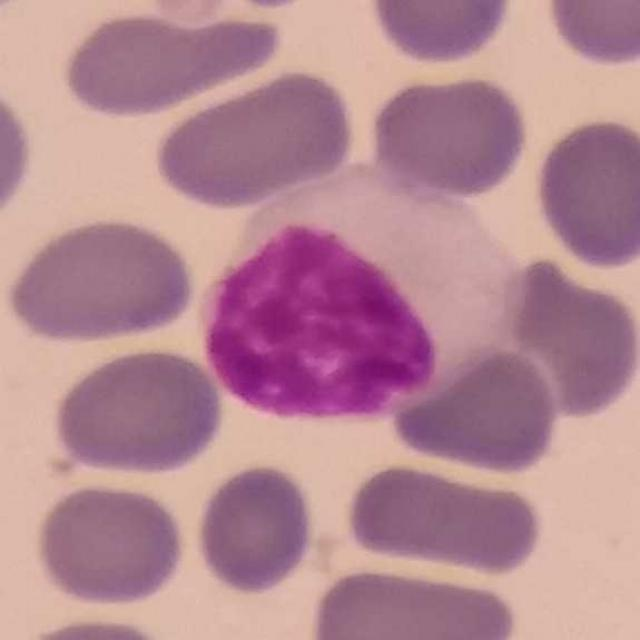Lymphocyte: (188, 161, 535, 429)
RBC: (149, 64, 362, 212), (55, 3, 282, 122), (2, 212, 200, 348), (340, 458, 548, 578), (47, 343, 228, 480), (496, 252, 639, 424), (388, 343, 564, 477), (364, 68, 534, 202), (29, 479, 190, 611), (530, 112, 640, 274), (190, 459, 320, 596), (307, 560, 523, 640), (363, 0, 520, 69), (541, 0, 640, 71), (0, 70, 39, 234), (15, 611, 186, 640)
